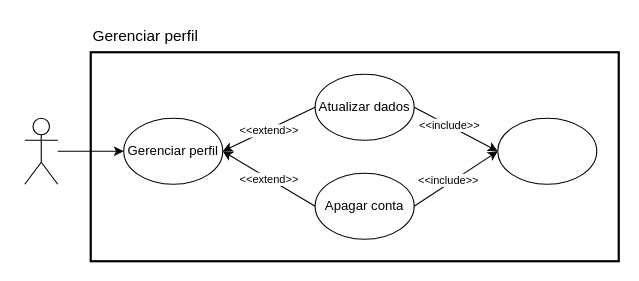
This 639x281 diagram has some shape labels left out. The box of each missing label's shape, as (x1, y1, x2, y2) in pixels:
Usuário: (24, 117, 58, 184)
Validar codigo de autenticação: (497, 117, 597, 184)
